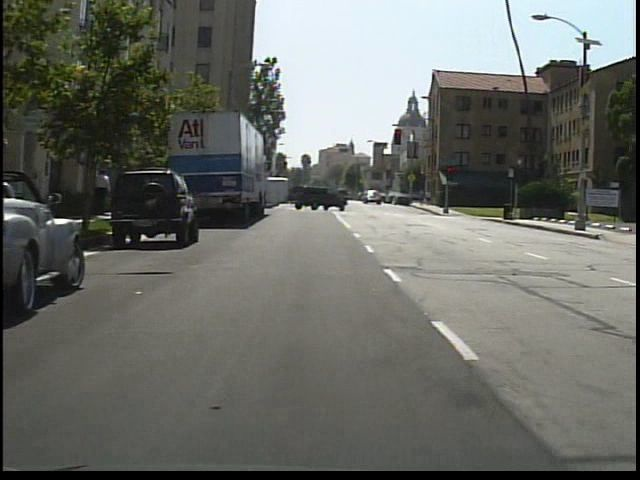person: (97, 165, 115, 217), (418, 188, 427, 210)
